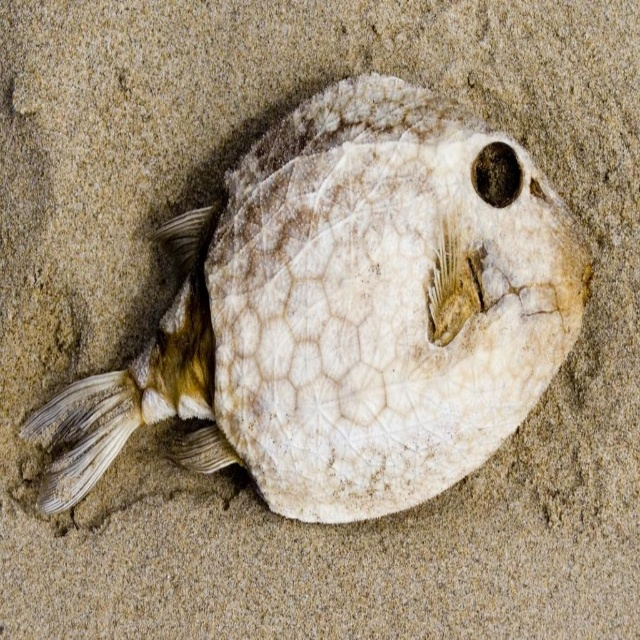Fish: (12, 59, 597, 525)
